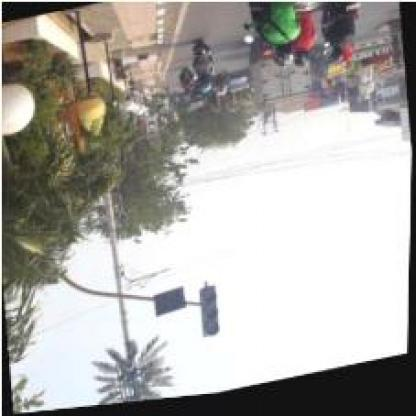green: (197, 286, 221, 344)
